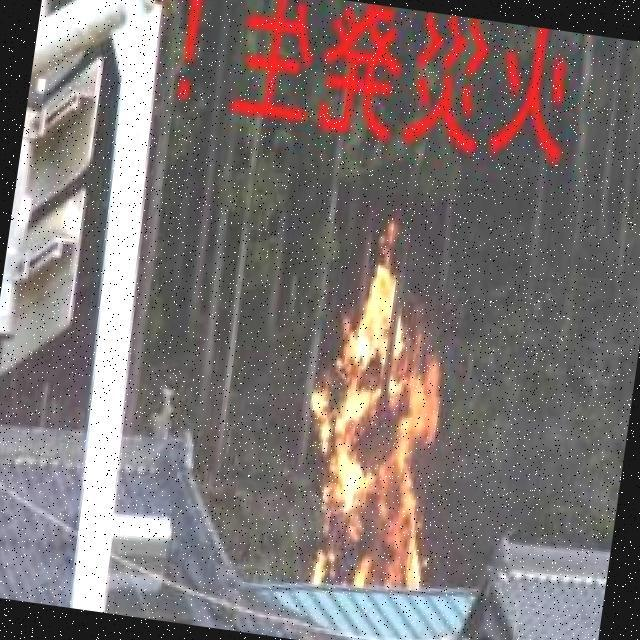Fire: (284, 214, 471, 603)
